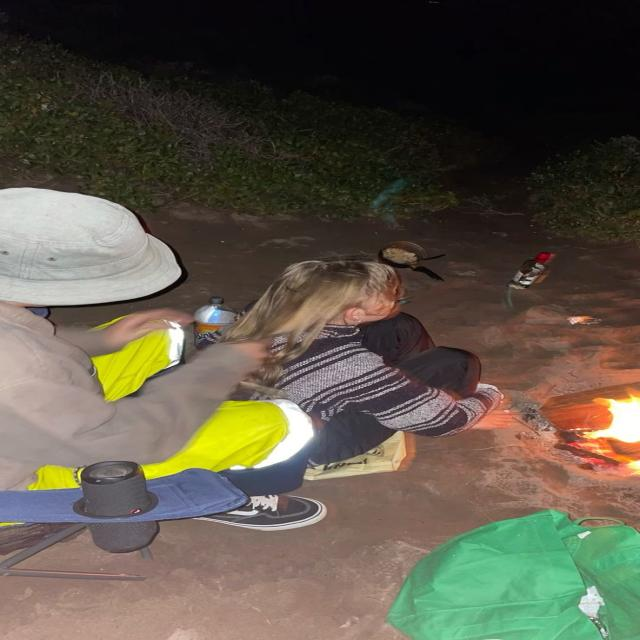fire: (581, 391, 640, 444)
